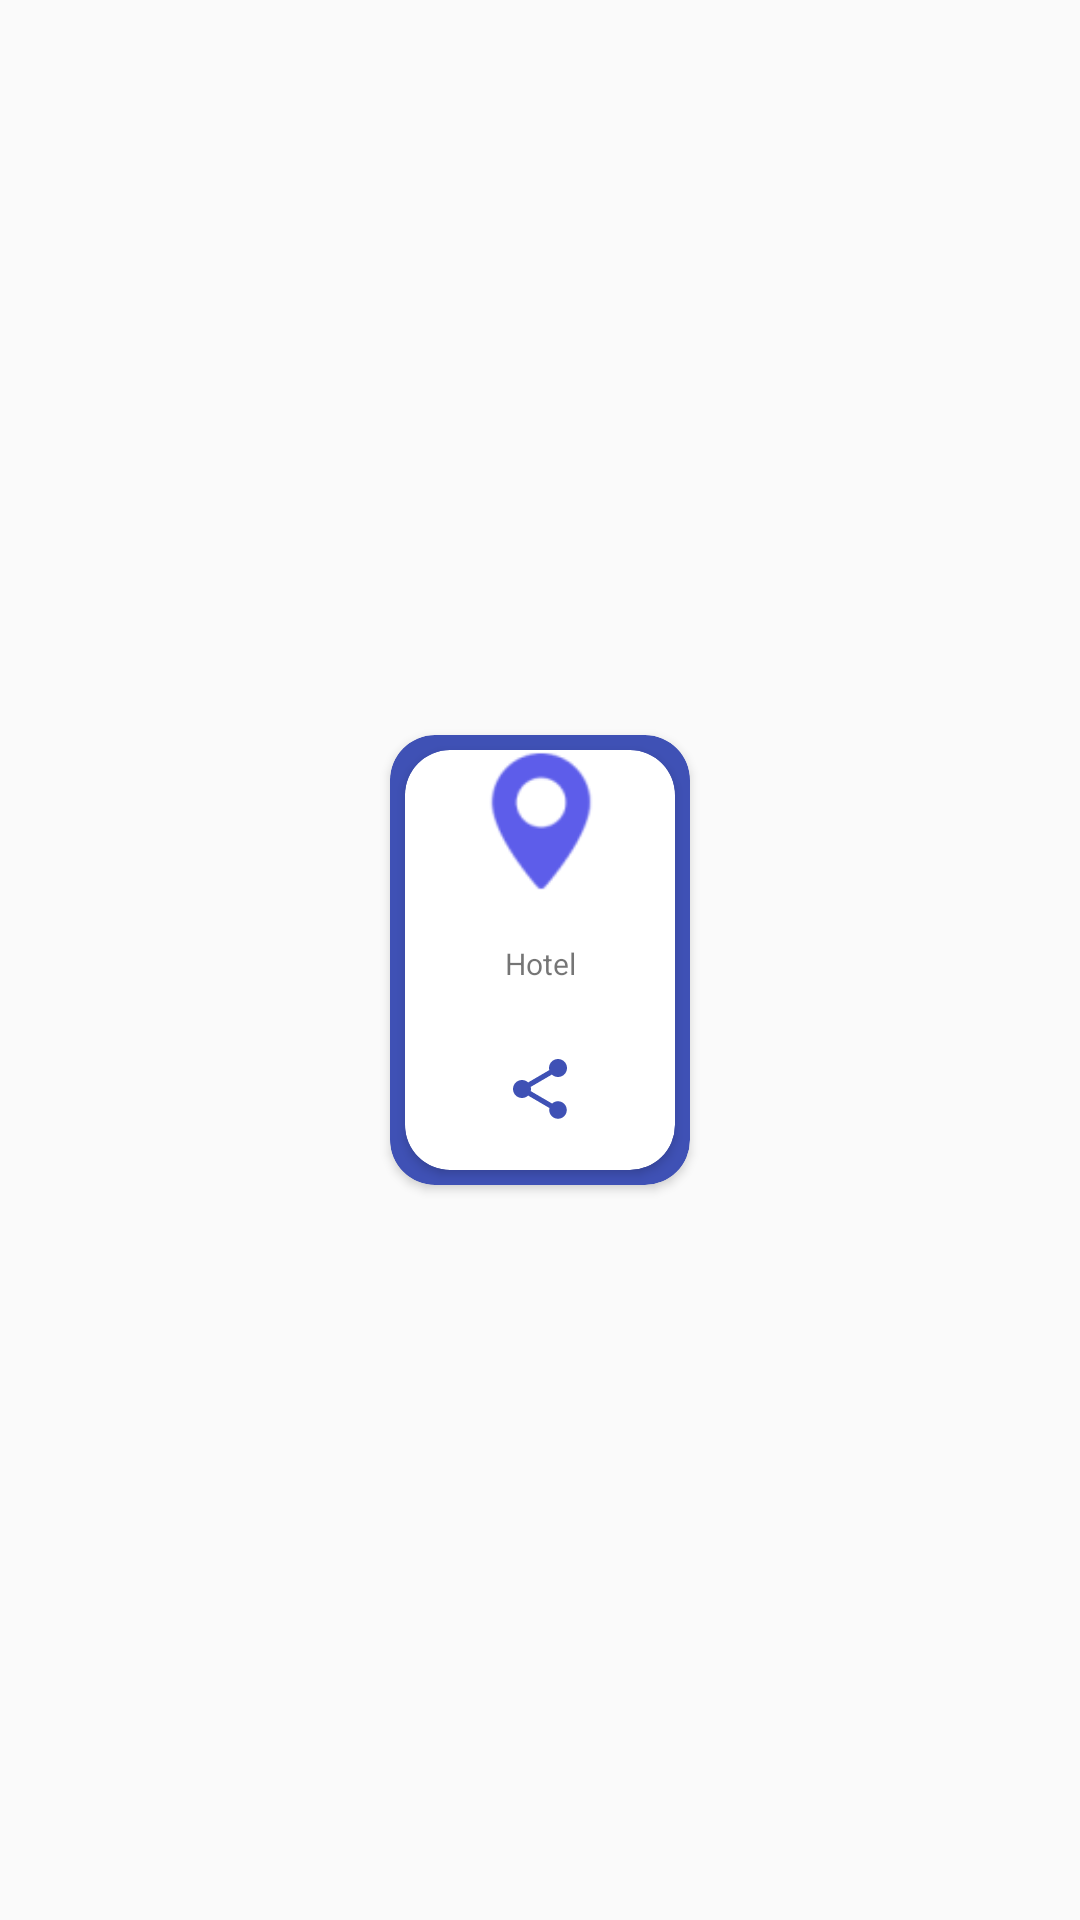

Named icons in this screenshot (1080*1920) and their bounding boxes, bbox(x1, y1, x2, y2):
share: bbox(513, 1059, 567, 1119)
